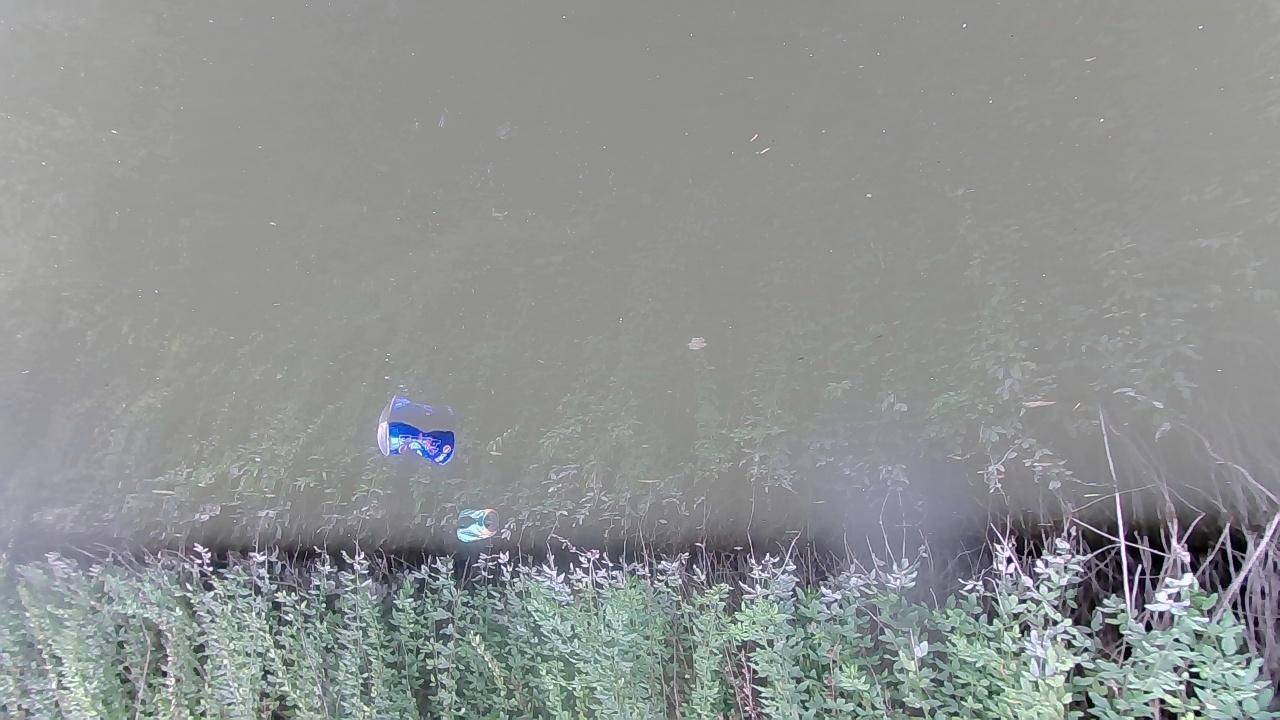Metal: (373, 419, 458, 467), (453, 517, 506, 545)
